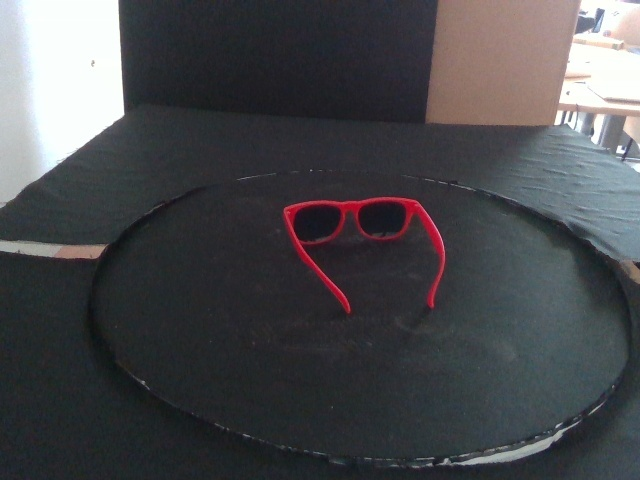glasses: (282, 197, 447, 315)
